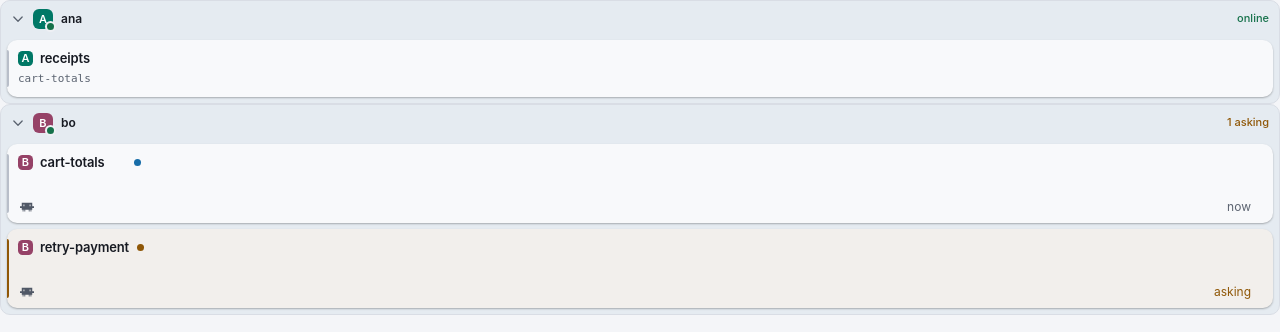
Scenario: TeammateGroups › folds a teammate by their row and keeps what they are doing on it
Click the list item with aria-label "bo," at (1248, 122), box [7,108,1273,138]
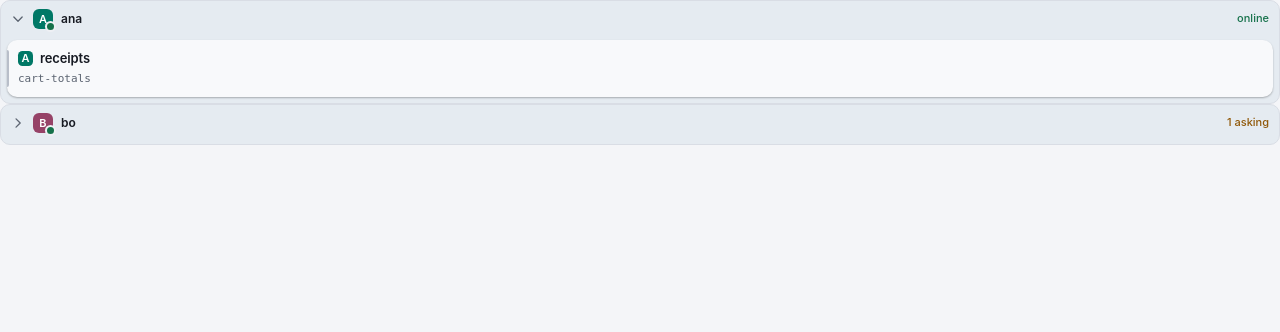
Expected: the list item with aria-label "bo," shows "1 asking", [1227,115,1269,129]
Expected: the list item with aria-label "bo," is collapsed
Expected: the text "retry-payment" is gone
Press ArrowRight in the list item with aria-label "bo,", box [7,108,1273,138]
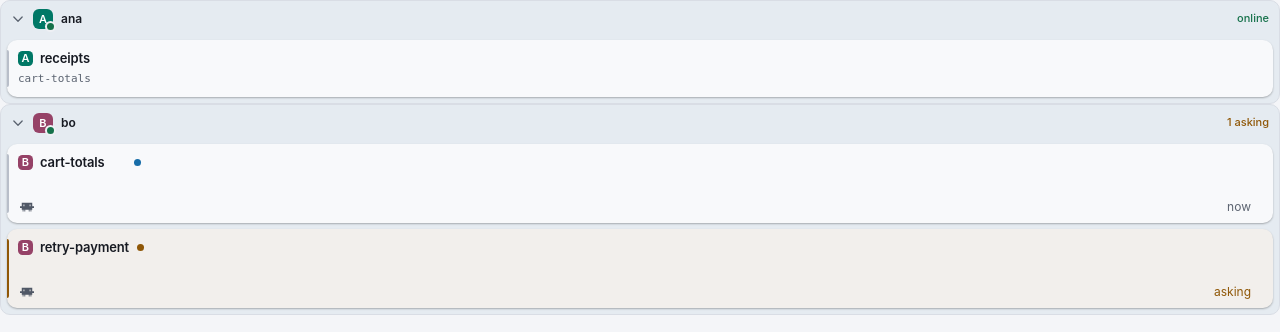
Expected: the text "retry-payment" is shown, [40,238,129,256]
